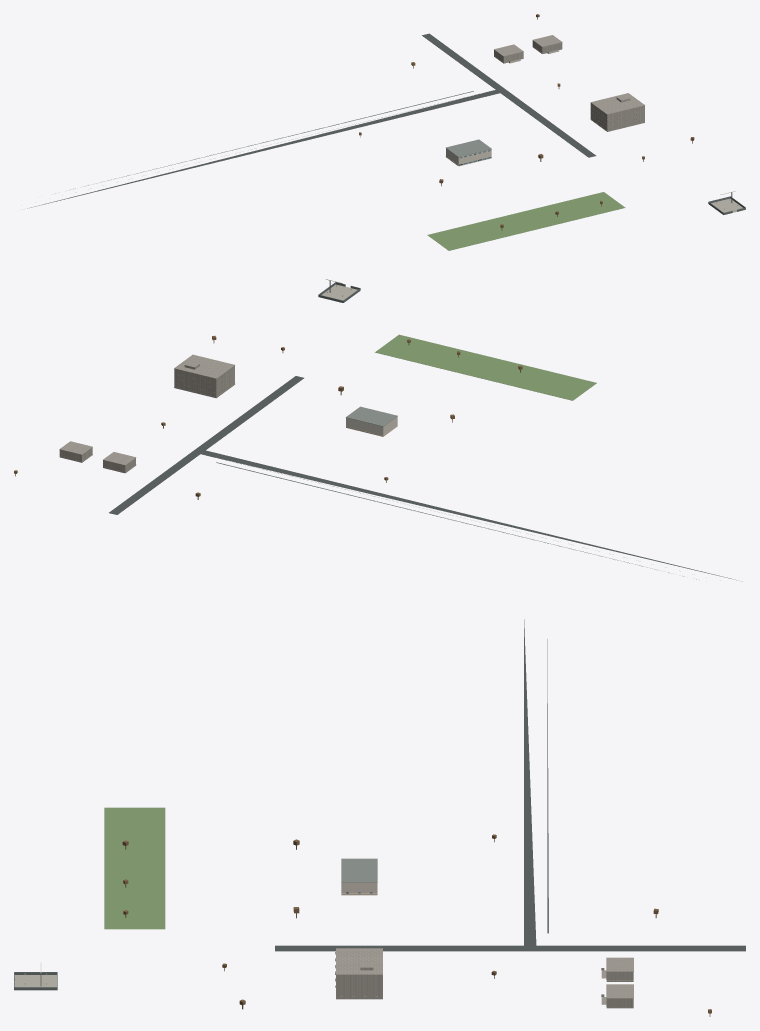
The model's file is cell_6_-5_full.gltf.
3 renders of one model, top to bottom at view 1: azimuth 30°, elevation 25°; view 2: azimuth 150°, elevation 25°; view 3: azimuth 270°, elevation 25°, orthographic. The views are drawn at different scales.
Parts seen in each view (by area): view 1: LEKKI_RETENTION_GREEN_CORRIDOR, LEKKI_LOCAL_COLLECTOR_EXTENSION_EAST, LEKKI_APARTMENT_COURT_G, LEKKI_NEIGHBOURHOOD_RETAIL_02, LEKKI_SITE_UNFINISHED_PARCEL_B_CRANE_MAST; view 2: LEKKI_RETENTION_GREEN_CORRIDOR, LEKKI_LOCAL_COLLECTOR_EXTENSION_EAST, LEKKI_APARTMENT_COURT_G, LEKKI_NEIGHBOURHOOD_RETAIL_02, LEKKI_SITE_UNFINISHED_PARCEL_B_CRANE_MAST; view 3: LEKKI_RETENTION_GREEN_CORRIDOR, LEKKI_LOCAL_COLLECTOR_EXTENSION_EAST, LEKKI_APARTMENT_COURT_G, LEKKI_NEIGHBOURHOOD_RETAIL_02, LEKKI_SITE_UNFINISHED_PARCEL_B_CRANE_MAST.
Part boxes in pixels (x1=…): LEKKI_RETENTION_GREEN_CORRIDOR: x1=427, y1=192, x2=625, y2=250; LEKKI_LOCAL_COLLECTOR_EXTENSION_EAST: x1=27, y1=33, x2=596, y2=208; LEKKI_APARTMENT_COURT_G: x1=494, y1=35, x2=644, y2=131; LEKKI_NEIGHBOURHOOD_RETAIL_02: x1=445, y1=139, x2=737, y2=209; LEKKI_SITE_UNFINISHED_PARCEL_B_CRANE_MAST: x1=55, y1=91, x2=745, y2=214; LEKKI_RETENTION_GREEN_CORRIDOR: x1=375, y1=334, x2=596, y2=400; LEKKI_LOCAL_COLLECTOR_EXTENSION_EAST: x1=109, y1=376, x2=742, y2=581; LEKKI_APARTMENT_COURT_G: x1=59, y1=354, x2=234, y2=473; LEKKI_NEIGHBOURHOOD_RETAIL_02: x1=327, y1=285, x2=397, y2=436; LEKKI_SITE_UNFINISHED_PARCEL_B_CRANE_MAST: x1=216, y1=280, x2=696, y2=579; LEKKI_RETENTION_GREEN_CORRIDOR: x1=104, y1=807, x2=165, y2=929; LEKKI_LOCAL_COLLECTOR_EXTENSION_EAST: x1=275, y1=619, x2=745, y2=951; LEKKI_APARTMENT_COURT_G: x1=335, y1=948, x2=633, y2=1008; LEKKI_NEIGHBOURHOOD_RETAIL_02: x1=24, y1=858, x2=377, y2=984; LEKKI_SITE_UNFINISHED_PARCEL_B_CRANE_MAST: x1=14, y1=639, x2=548, y2=990.
Bounding box in the file's own units: 531 × 17 × 407.
Materials: 12 (1 with a texture image).
